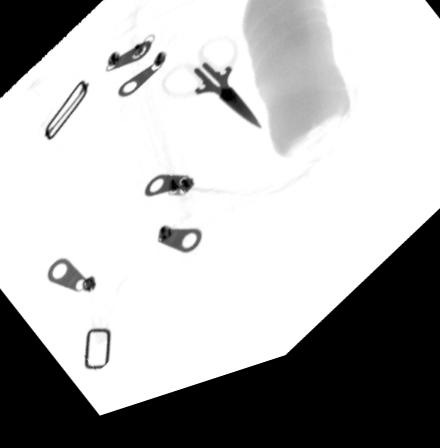Scissors: (159, 46, 262, 145)
